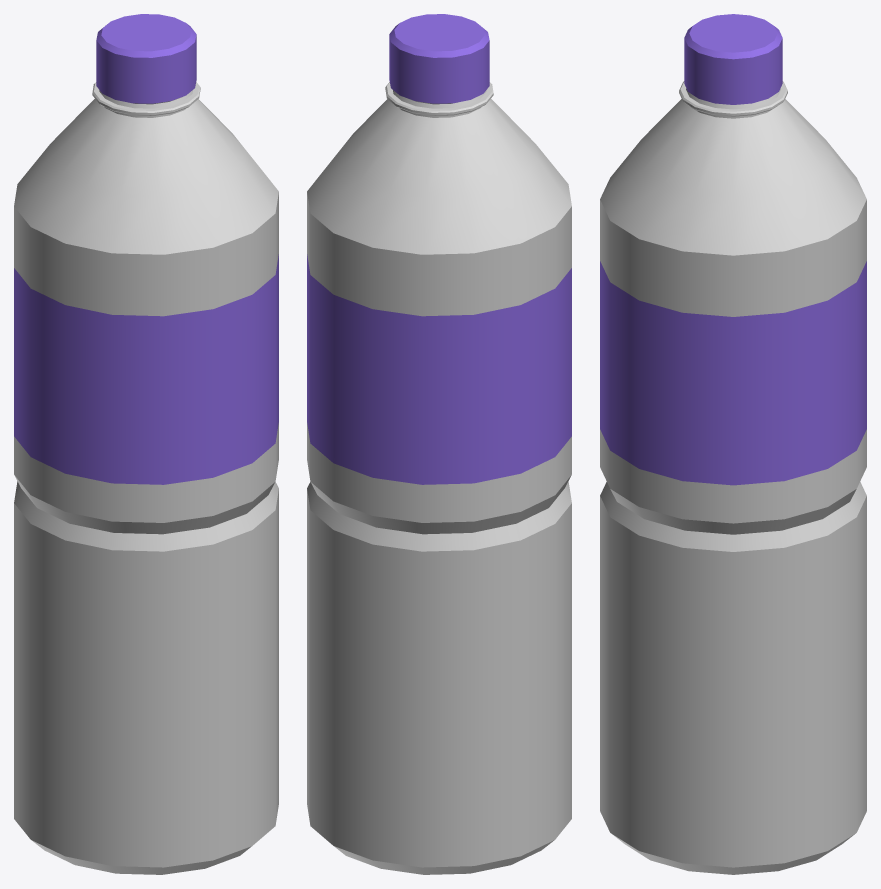
The model's file is bottle.fbx.
The picture shows the model from 3 angles, left to right: view 1: azimuth 30°, elevation 25°; view 2: azimuth 150°, elevation 25°; view 3: azimuth 270°, elevation 25°; orthographic projection.
Parts seen in each view (by area): view 1: 柱体, 柱体.001; view 2: 柱体, 柱体.001; view 3: 柱体, 柱体.001.
Part boxes in pixels (x1=…): 柱体: x1=14, y1=82, x2=278, y2=874; 柱体.001: x1=96, y1=14, x2=196, y2=103; 柱体: x1=307, y1=82, x2=571, y2=874; 柱体.001: x1=389, y1=14, x2=489, y2=103; 柱体: x1=600, y1=81, x2=866, y2=874; 柱体.001: x1=684, y1=14, x2=782, y2=104.
Bounding box in the file's own units: 53.92 × 177 × 53.92.
